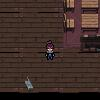Hide: (79, 33, 100, 52)
Obstacle: (78, 12, 100, 33), (58, 12, 78, 33)
Victim: (43, 39, 57, 61)
Win: (22, 75, 36, 91)
